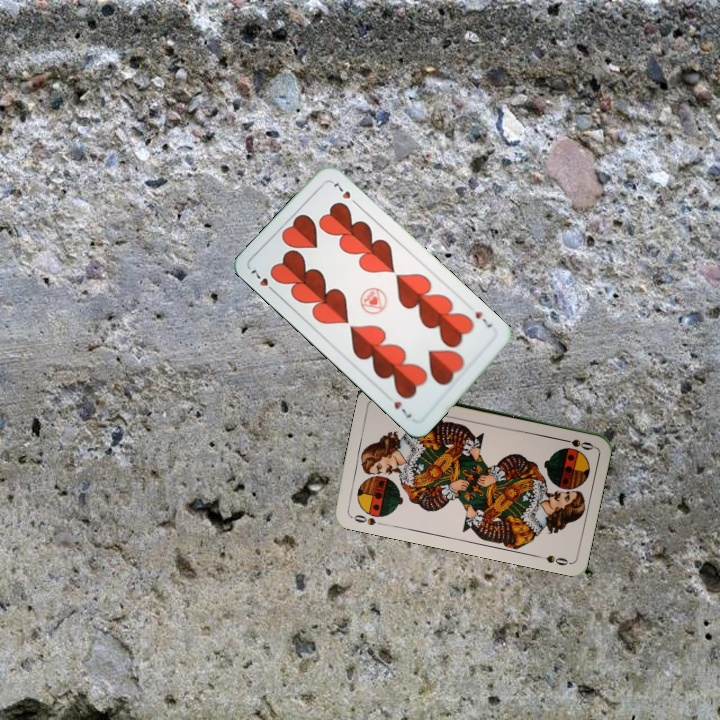H7: (246, 265, 279, 296), (471, 308, 495, 331)
SO: (347, 508, 387, 528), (556, 434, 596, 452)
